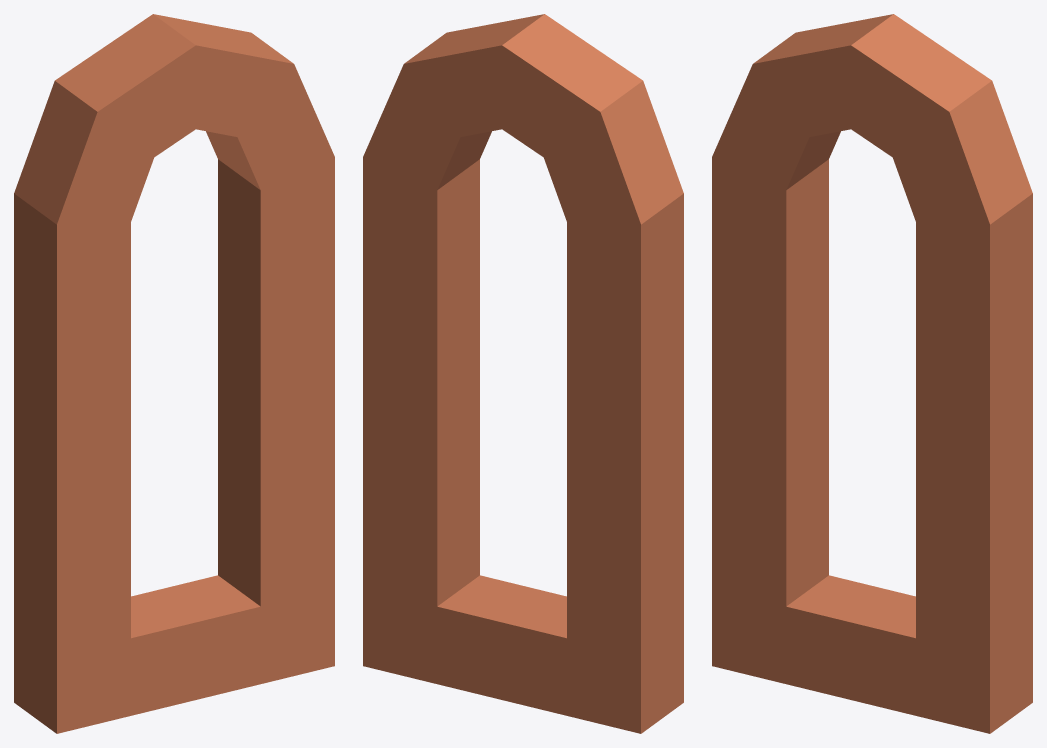
File: window-brown-round-narrow.obj
The picture shows the model from 3 angles, left to right: view 1: azimuth 30°, elevation 25°; view 2: azimuth 150°, elevation 25°; view 3: azimuth 330°, elevation 25°; orthographic projection.
Size of the model in its own units: 0.1875 by 0.4219 by 0.05.
